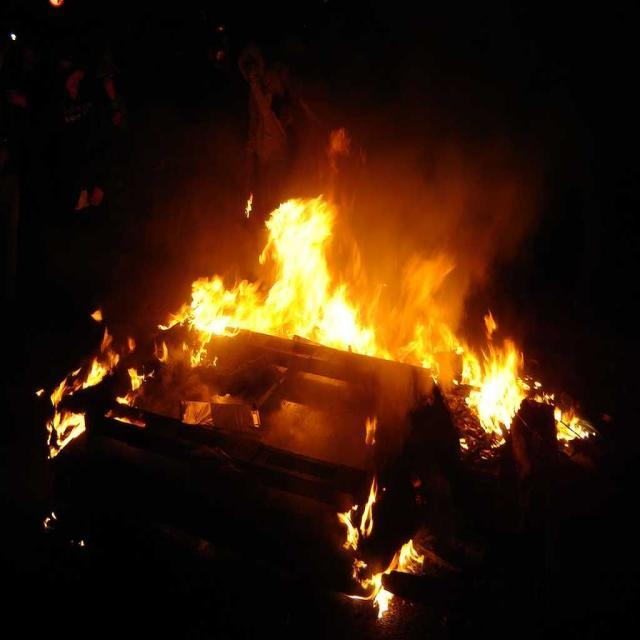Fire: (276, 210, 342, 333), (479, 350, 520, 425), (191, 276, 234, 342)
